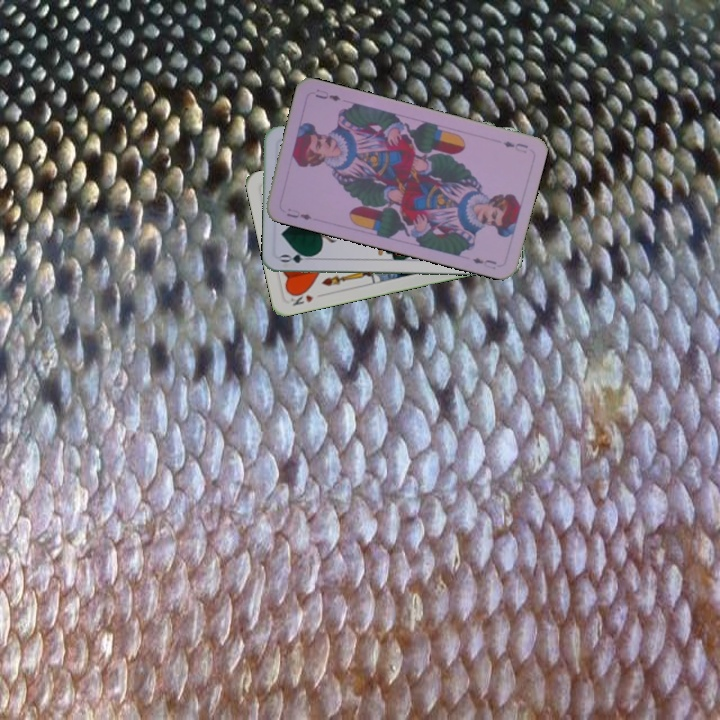EU: (282, 204, 314, 223), (499, 137, 530, 156)
GO: (277, 250, 317, 265)
HK: (286, 287, 316, 309)
